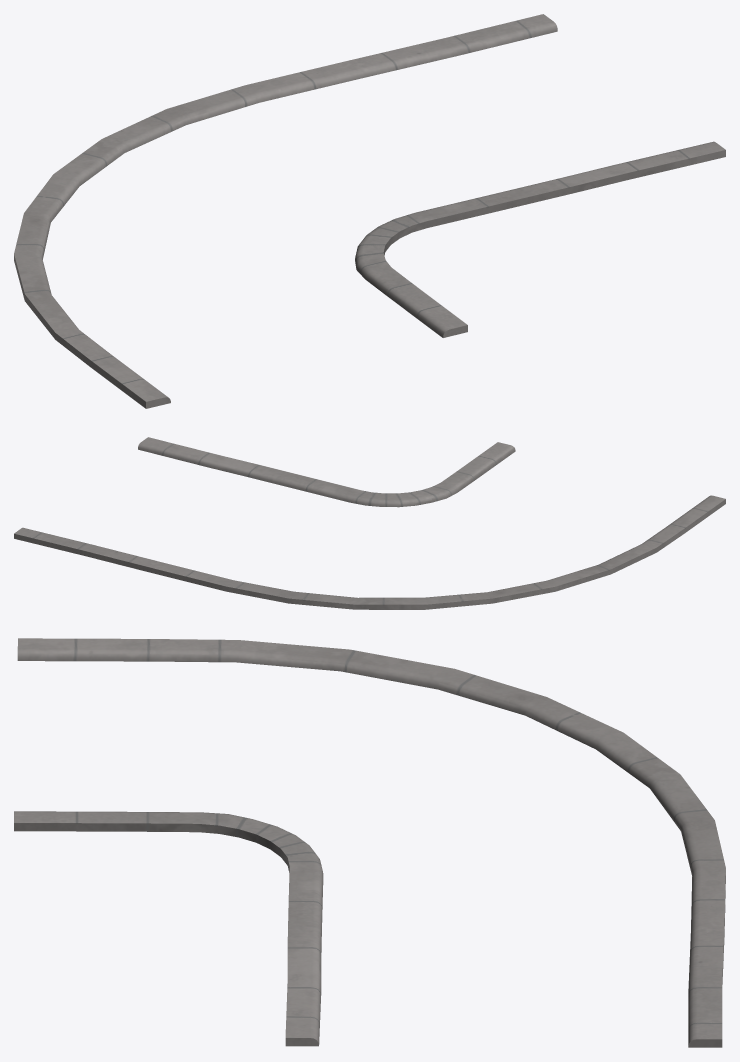
Rendered from SideWalks_Curved.fbx.
3 renders of one model, top to bottom at view 1: azimuth 30°, elevation 25°; view 2: azimuth 150°, elevation 25°; view 3: azimuth 270°, elevation 25°, orthographic. The views are drawn at different scales.
Visible parts, largest first — view 1: SideWalk_Curved; view 2: SideWalk_Curved; view 3: SideWalk_Curved.
Part boxes in pixels (x1,y1,x2,y2): SideWalk_Curved: (14, 14, 725, 408); SideWalk_Curved: (14, 437, 725, 609); SideWalk_Curved: (14, 638, 725, 1047).
Bounding box in the file's own units: 1231 × 924 × 11.97.
